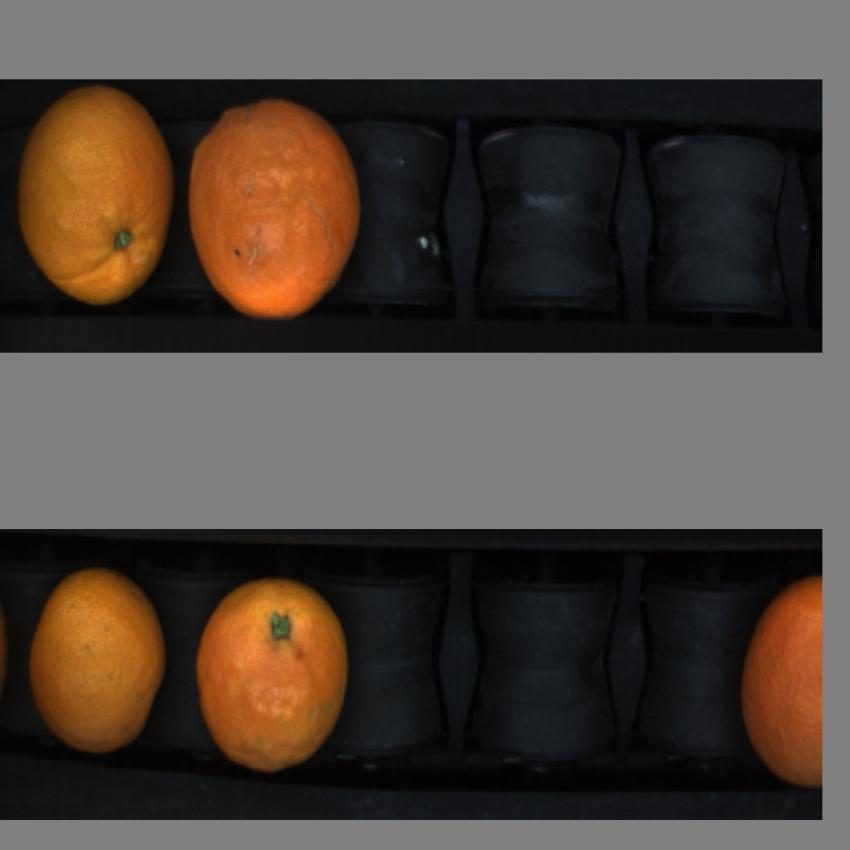Buen estado: (188, 562, 358, 781), (16, 87, 174, 310), (31, 556, 173, 754), (742, 574, 820, 798)
Mal estado: (184, 86, 371, 328)
